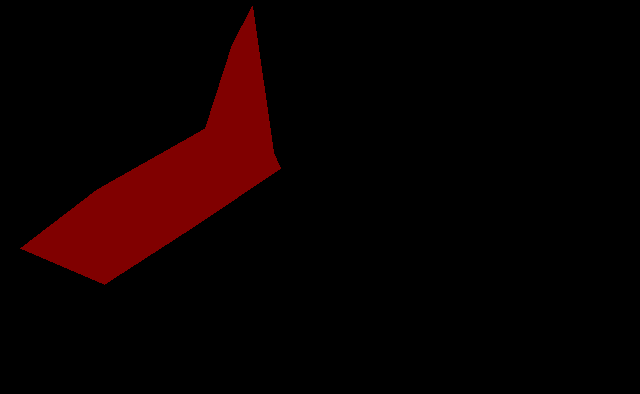fire: (20, 6, 280, 284)
